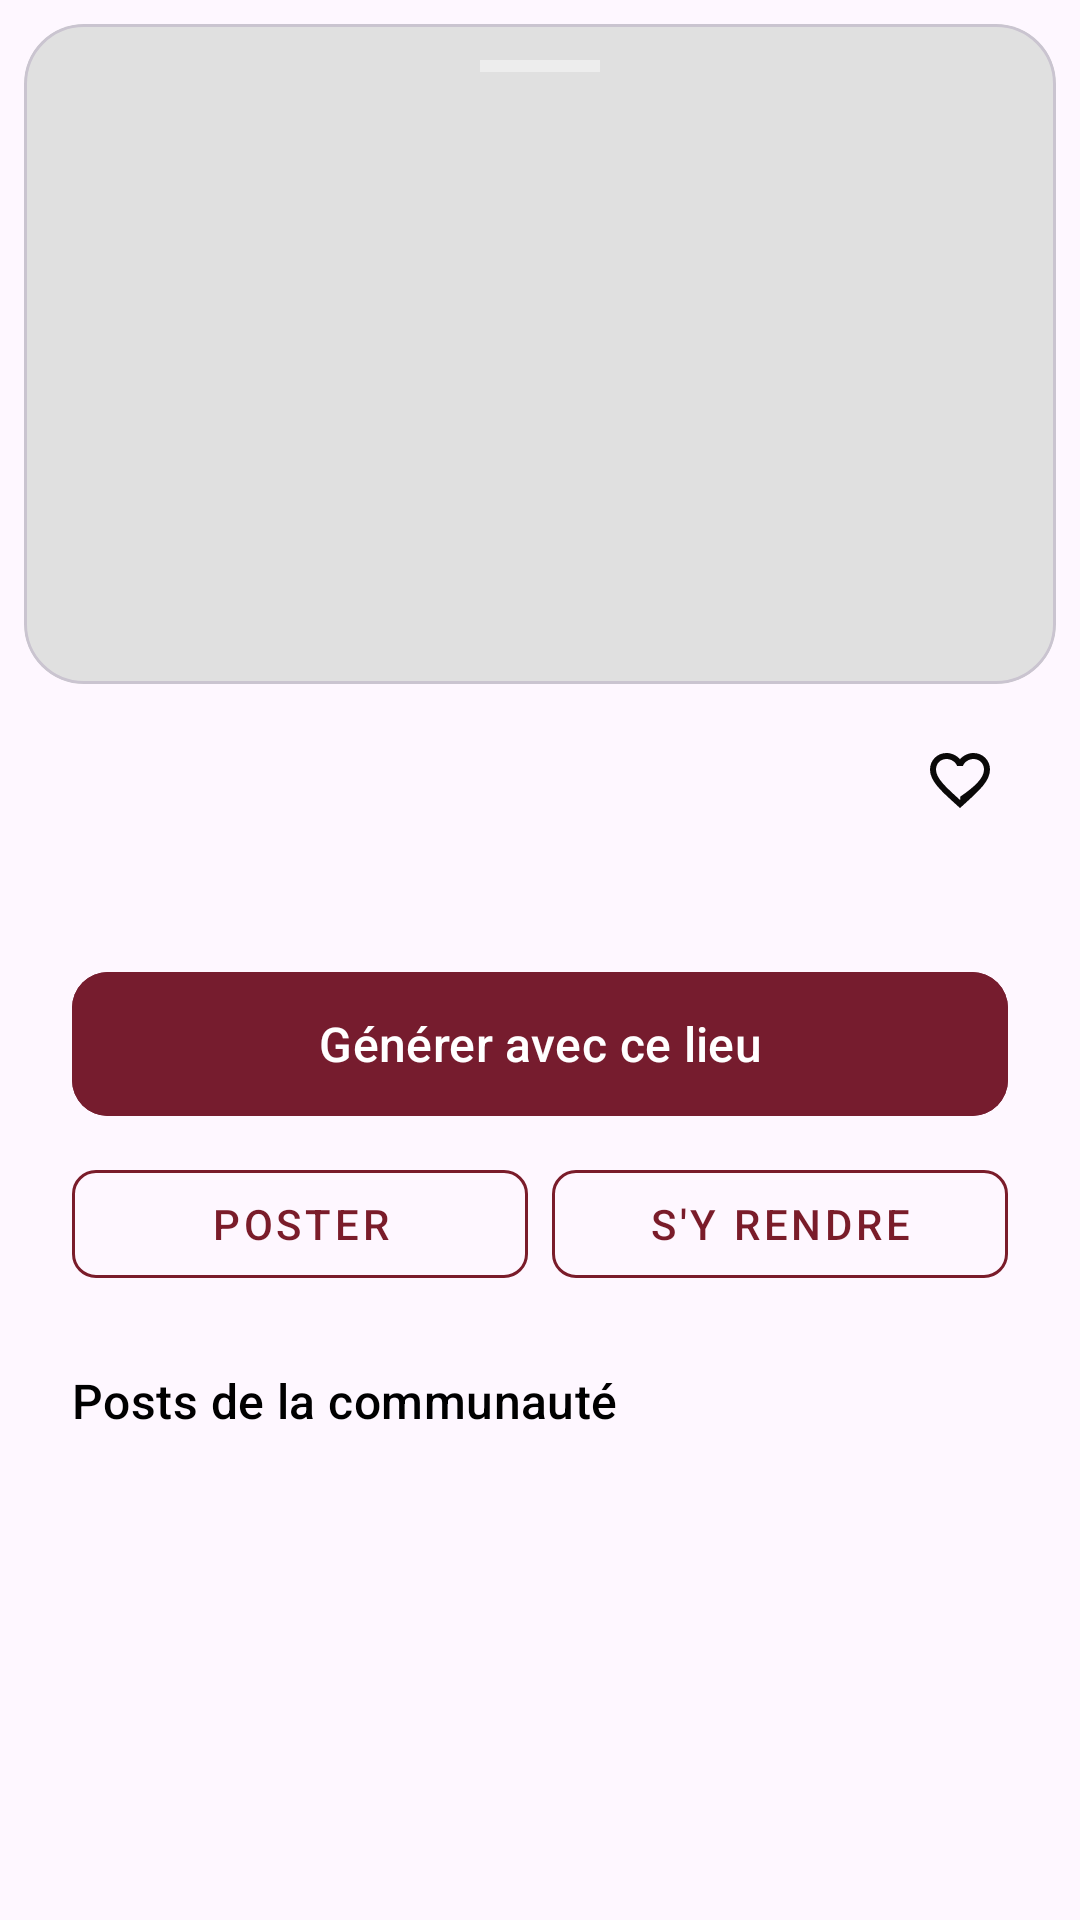

Named icons in this screenshot (1080×1920) and their bounding boxes, (x1, y1, x2, y2):
heart empty: (930, 753, 990, 808)
